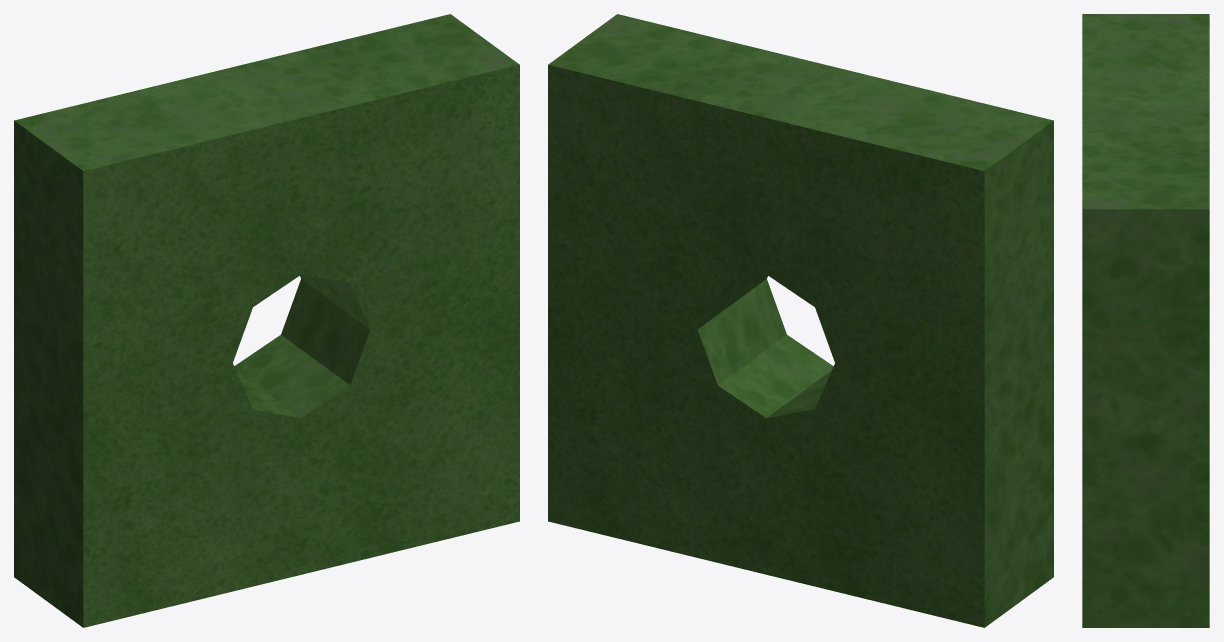
The model's file is HedgeWallHole.fbx.
The picture shows the model from 3 angles, left to right: view 1: azimuth 30°, elevation 25°; view 2: azimuth 150°, elevation 25°; view 3: azimuth 270°, elevation 25°; orthographic projection. The views are drawn at different scales.
Parts seen in each view (by area): view 1: HedgeWallHole; view 2: HedgeWallHole; view 3: HedgeWallHole.
Boxes of the visible parts, box(x1,y1,x2,y2) form: HedgeWallHole: box(14, 14, 519, 627); HedgeWallHole: box(548, 14, 1053, 627); HedgeWallHole: box(1082, 14, 1209, 627).
Size of the model in its own units: 400 by 400 by 110.
